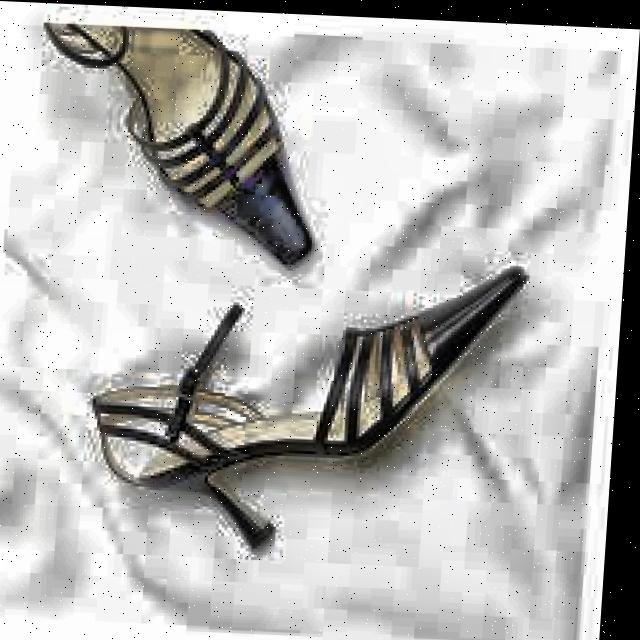shoes: (0, 18, 553, 580)
